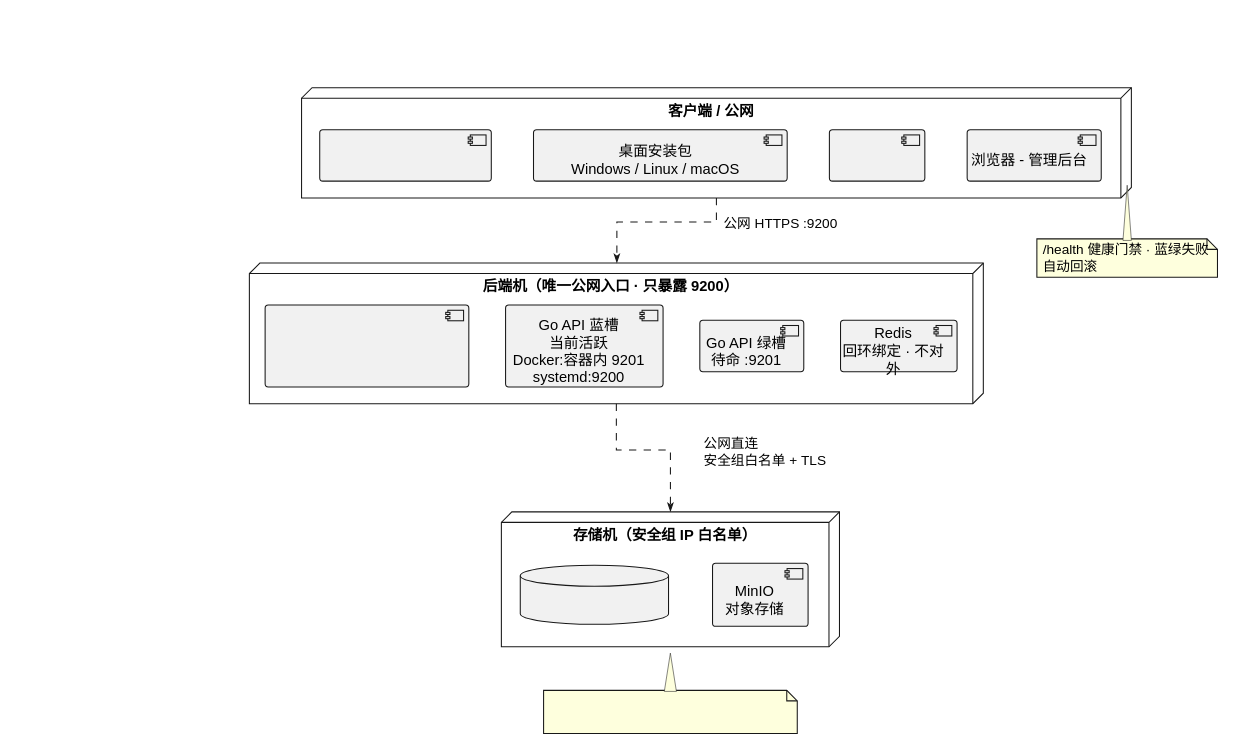
This 1236x752 diagram has some shape labels left out. The centre of each missing label's shape, as x and y in pixels:
"Android APK bus arm64-v8a" goes at point (405, 155).
"Nginx 对外 :9200 http/https 分流 · 管理端静态资源 upstream 原子切换" goes at point (366, 345).
"PostgreSQL 18 ssl=on · 非默认端口" goes at point (594, 594).
"Redis 回环绑定不对外 MinIO 不开匿名桶，客户端经 Go 中转" goes at point (670, 711).
"微信小程序" goes at point (876, 155).
